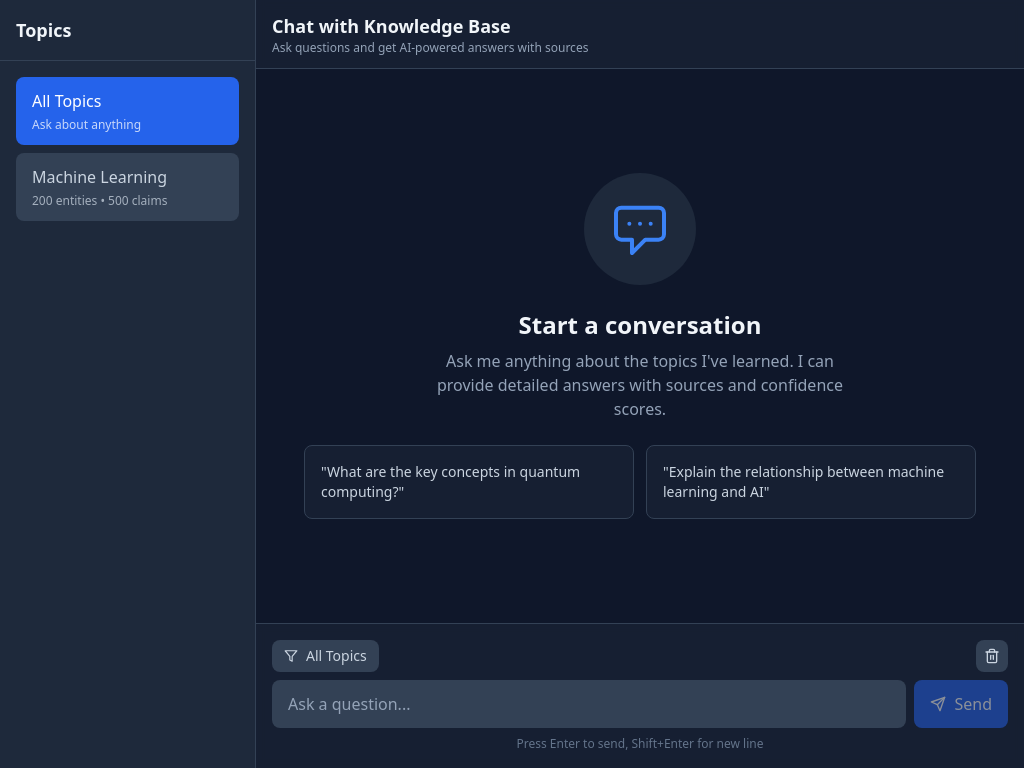
Test: ChatPage › clears the conversation when clear button is clicked
In the text box with placeholder "Ask a question...": (589, 704) [272,680,906,728], type "First message"
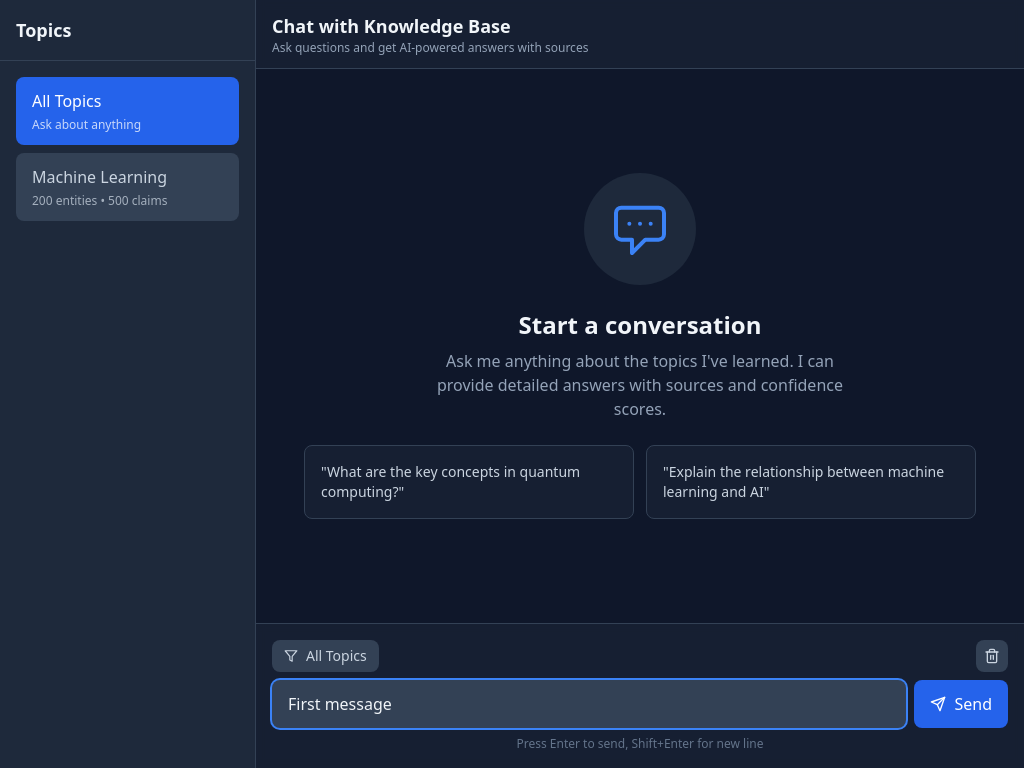
Click the button "Send": (961, 704) [914,680,1008,728]
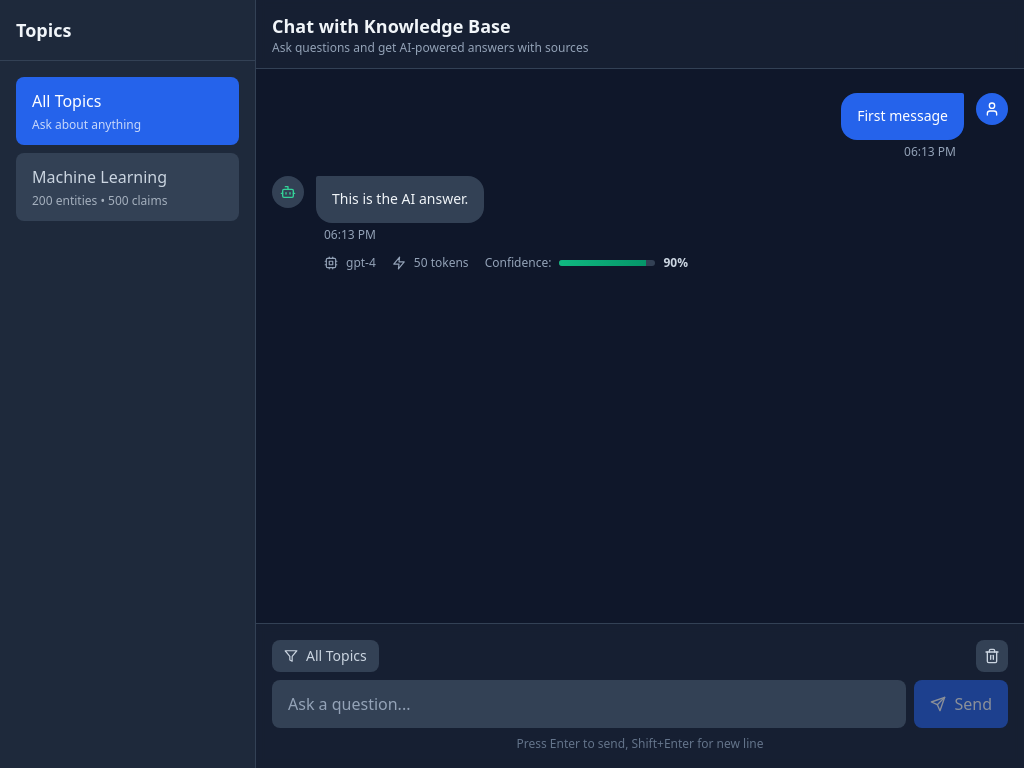
Now the text "This is the AI answer." is shown, box [332,188,468,211]
Click the button titled "Clear conversation": (992, 656) [976,640,1008,672]
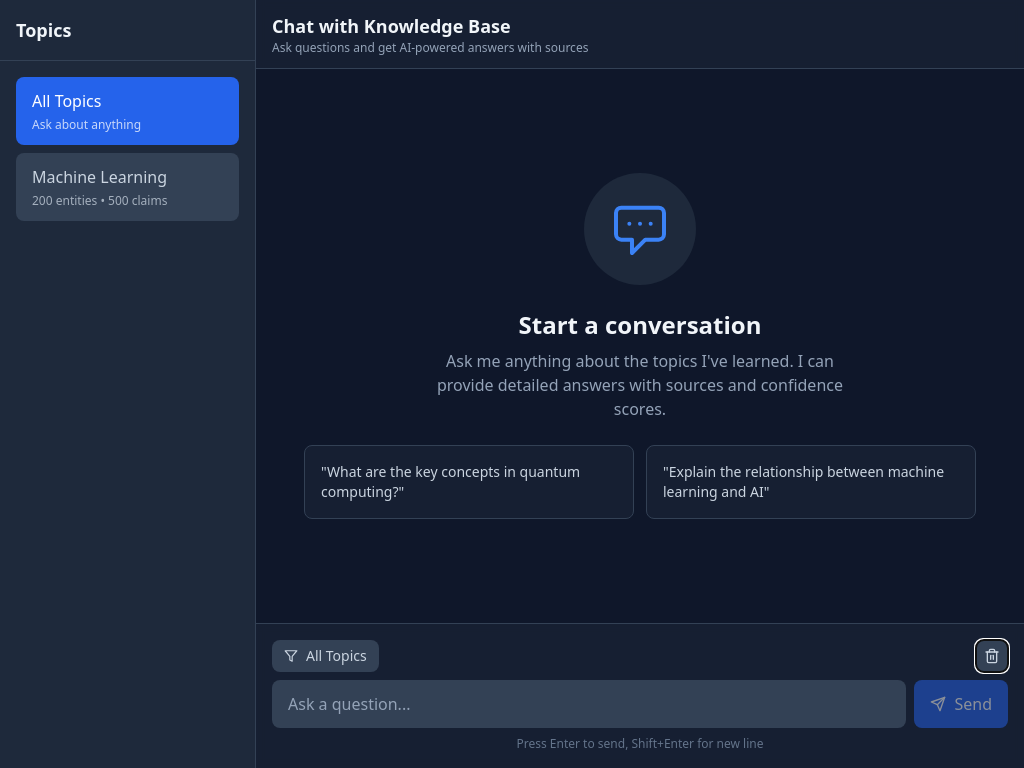
Now the heading "Start a conversation" is shown, box [518,309,761,341]
Now the text "First message" is gone
